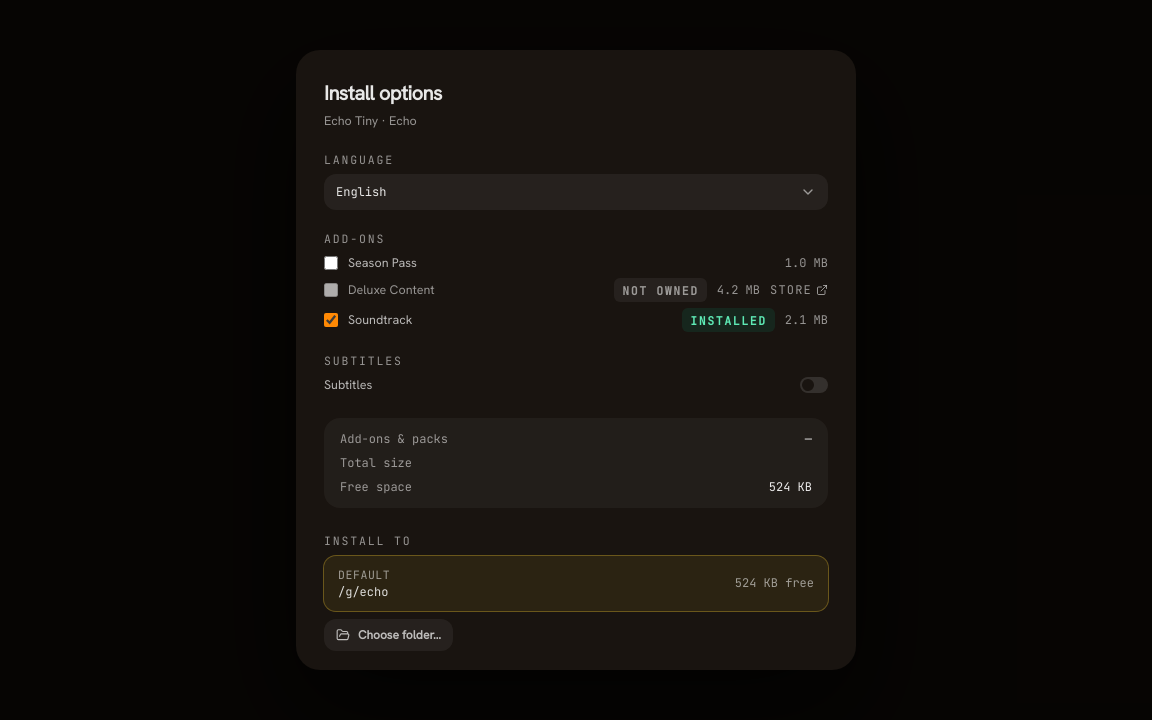
Test: InstallOptionsDialog › keeps the live total of the chosen add-ons and warns when the space is short
Check: the text with test id "added-size" reads "—", box [805,431,812,447]
Click the checkbox named "Season Pass" at (331, 263), box [324,256,338,270]
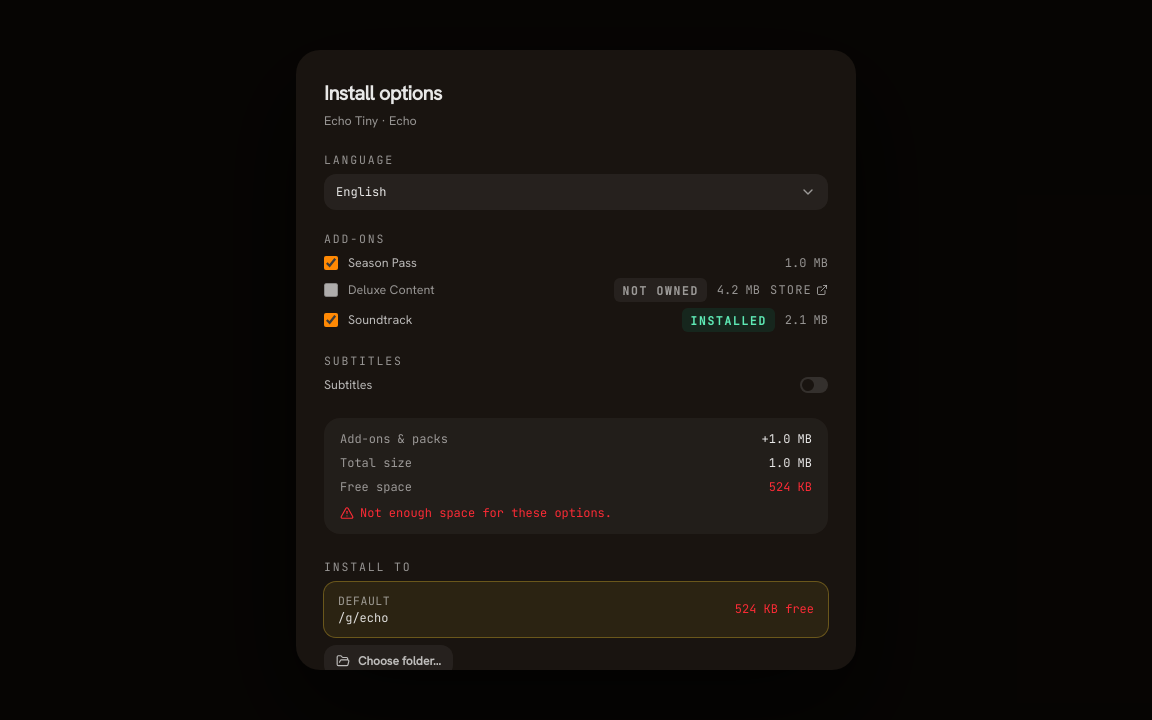
Check: the message shows "Not enough space", box [360,505,612,521]
Click the checkbox named "Season Pass" at (331, 263), box [324,256,338,270]
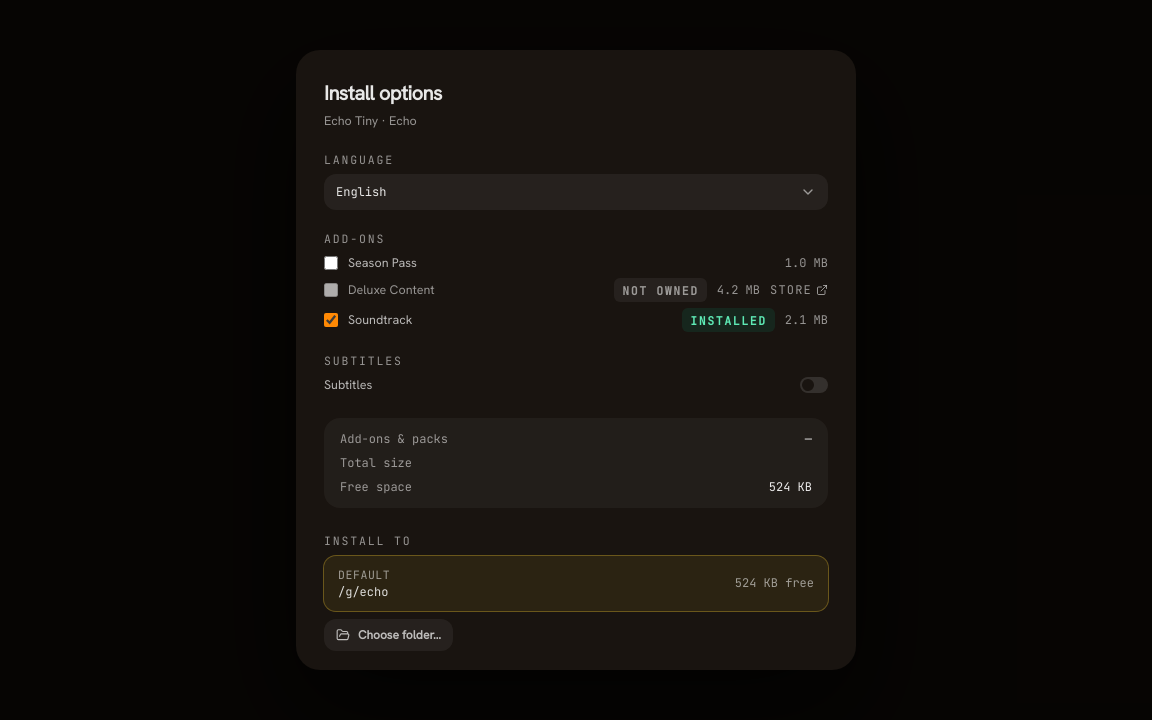
Check: the message "Not enough space for these options." is gone
